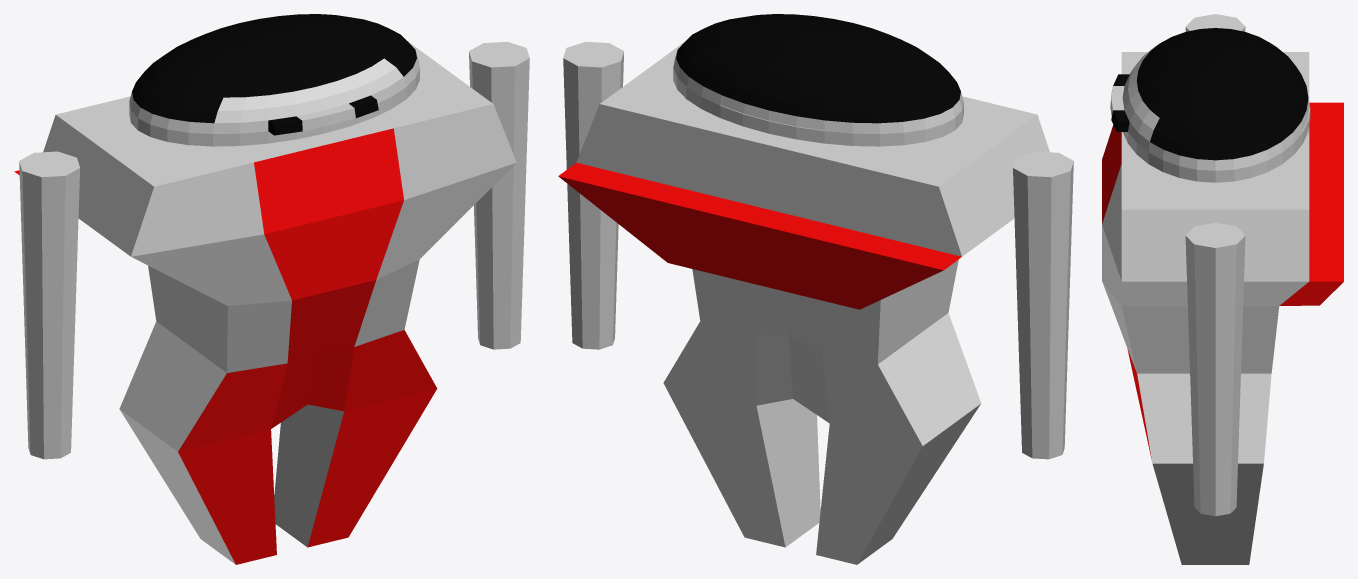
Rendered from robot.fbx.
3 views of the same model, side by side, from view 1: azimuth 30°, elevation 25°; view 2: azimuth 150°, elevation 25°; view 3: azimuth 270°, elevation 25° (orthographic). The views are drawn at different scales.
Parts seen in each view (by area): view 1: Cube; view 2: Cube; view 3: Cube.
Part boxes in pixels (x1,y1,x2,y2): Cube: [14, 14, 529, 564]; Cube: [558, 14, 1073, 564]; Cube: [1102, 14, 1343, 564].
Bounding box in the file's own units: 369 × 353 × 161.
